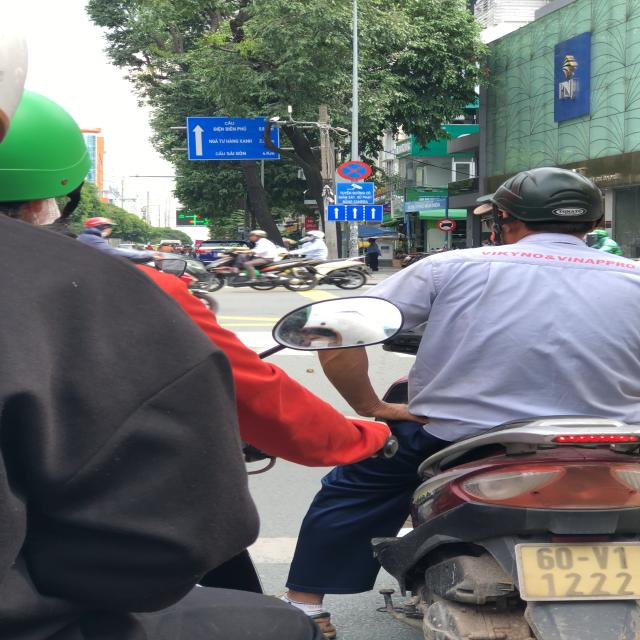Bien bao cam dung xe va do xe: (339, 160, 376, 182)
